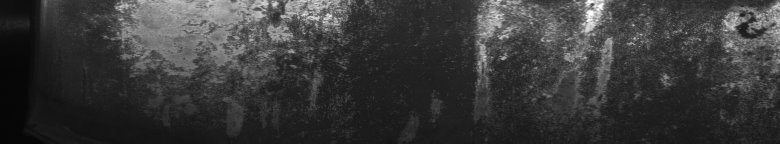kb: (466, 4, 776, 125)
